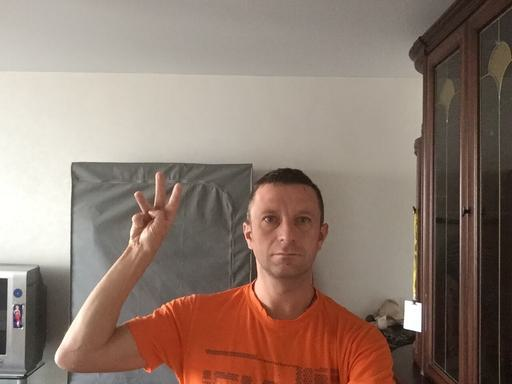three: (128, 171, 182, 253)
